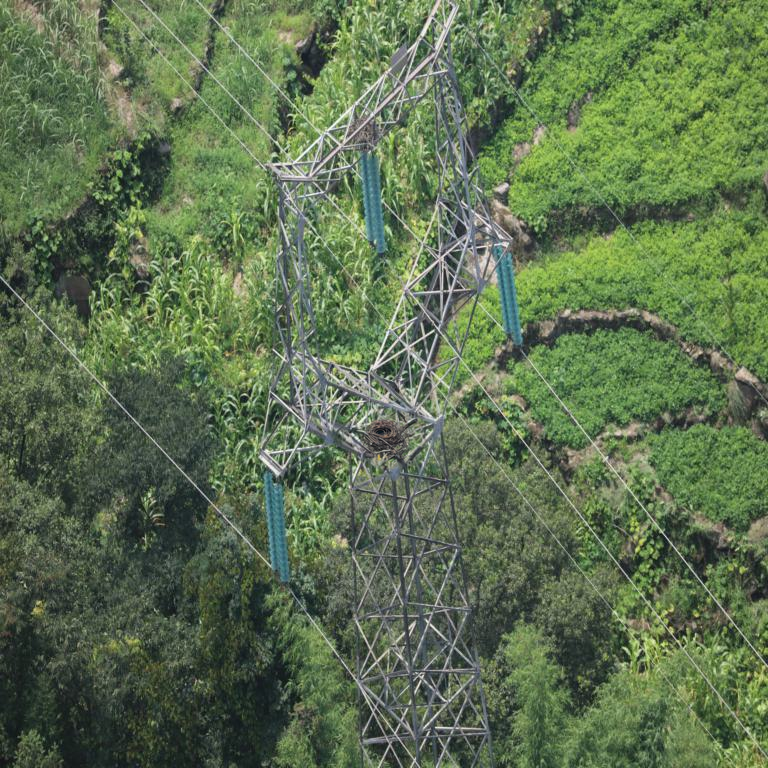nest: (363, 418, 405, 454), (345, 115, 381, 148)
